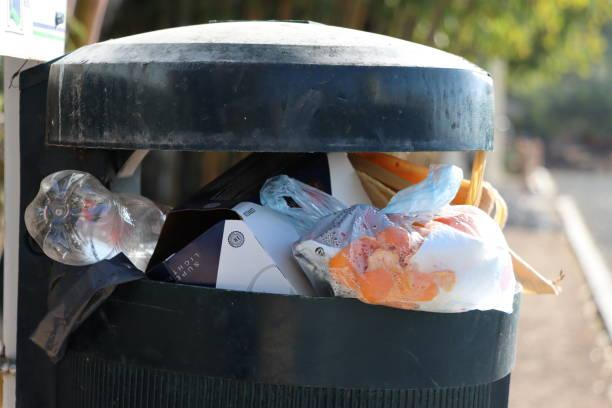trash: (136, 149, 341, 324), (294, 170, 510, 329), (29, 166, 177, 274), (337, 149, 507, 207)
trash_can_overflow: (14, 11, 535, 408)
